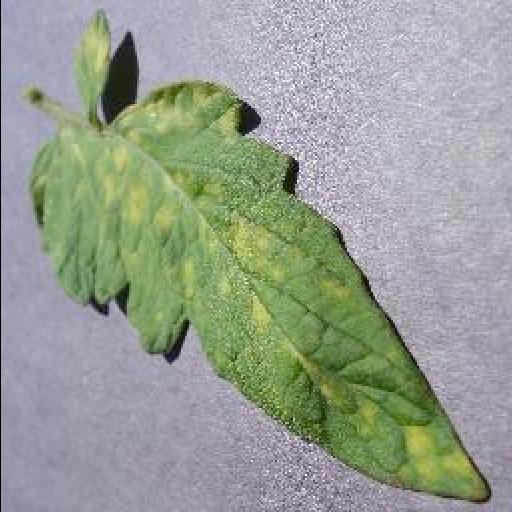disease_tomato: (27, 83, 489, 503)
